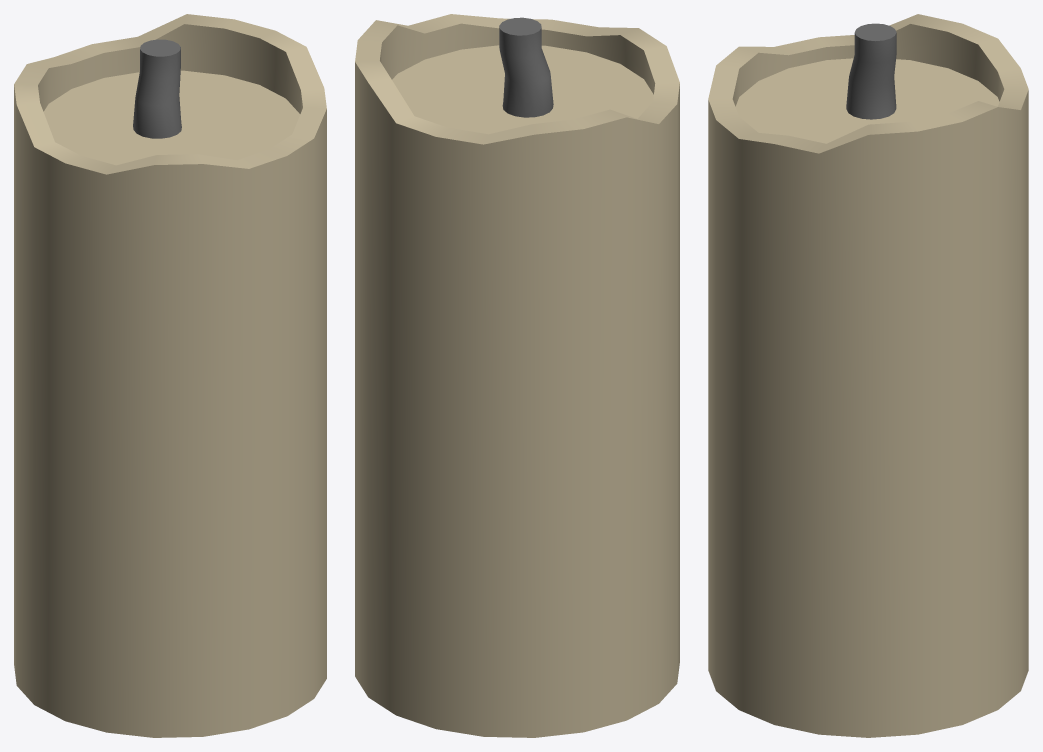
File: świeczka_LP.fbx
3 renders of one model, left to right at view 1: azimuth 30°, elevation 25°; view 2: azimuth 150°, elevation 25°; view 3: azimuth 270°, elevation 25°, orthographic. The views are drawn at different scales.
Parts seen in each view (by area): view 1: Cylinder; view 2: Cylinder; view 3: Cylinder.
Part boxes in pixels (x1,y1,x2,y2): Cylinder: (14, 14, 326, 737); Cylinder: (355, 14, 679, 737); Cylinder: (708, 14, 1028, 737).
Size of the model in its own units: 17.5 by 38.23 by 17.5.
